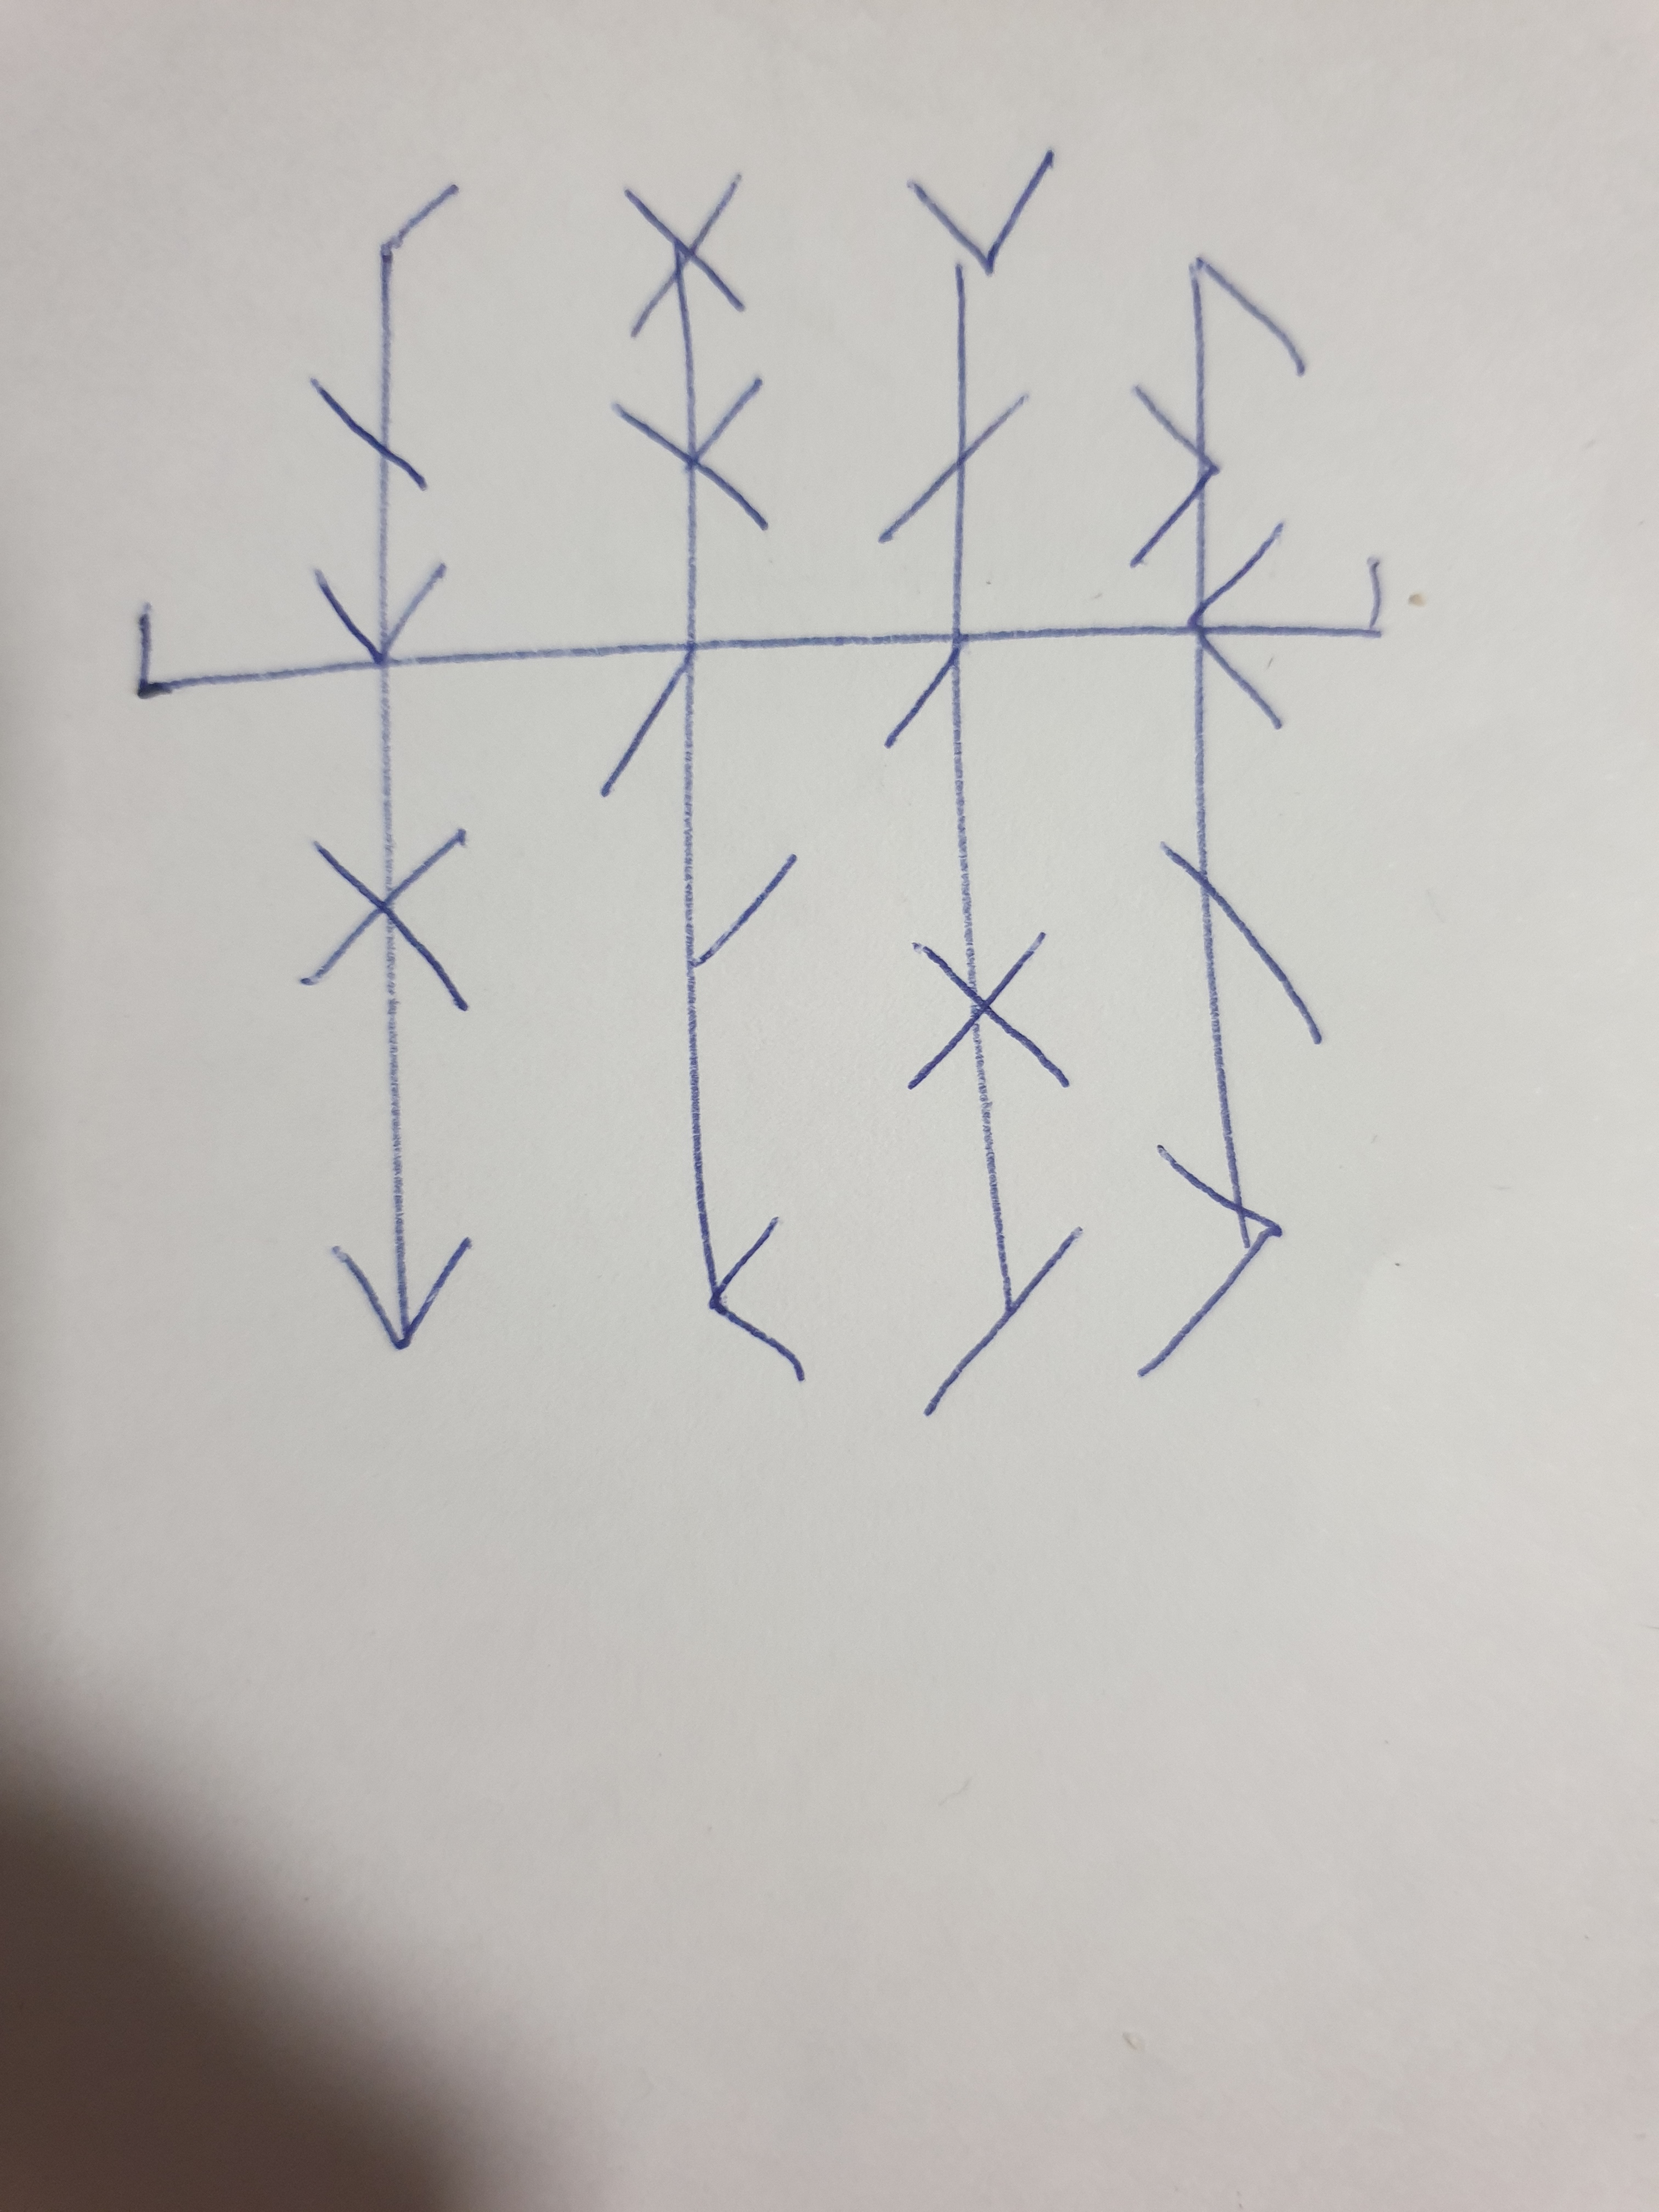Bar: (880, 150, 1080, 1420), (599, 169, 802, 1385), (1131, 256, 1323, 1378), (303, 185, 469, 1341)
Barcode: (132, 152, 1384, 1421)
End: (1267, 557, 1384, 639)
Start: (132, 603, 322, 698)
